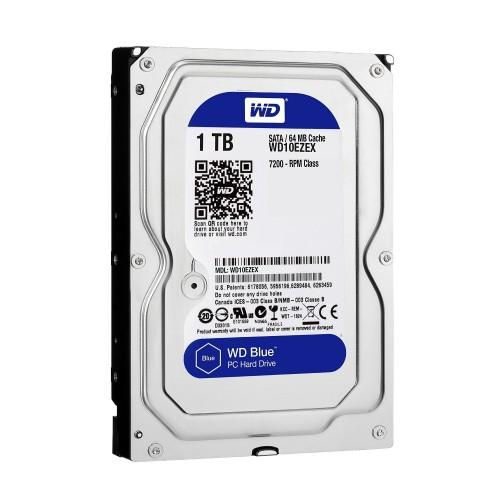internal HDD: (109, 47, 398, 464)
